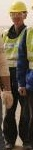boots: (5, 141, 14, 150), (0, 105, 6, 111)
gloves: (0, 90, 14, 109), (0, 29, 7, 45)
hard-hat: (0, 4, 14, 22)
vest: (0, 33, 16, 84)
